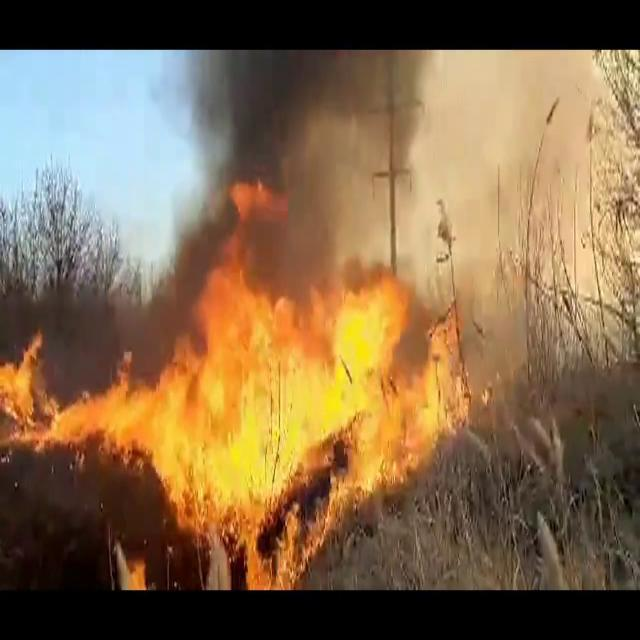Fire: (124, 248, 466, 556), (0, 332, 157, 474)
Smoke: (137, 52, 442, 303), (393, 46, 637, 358)
